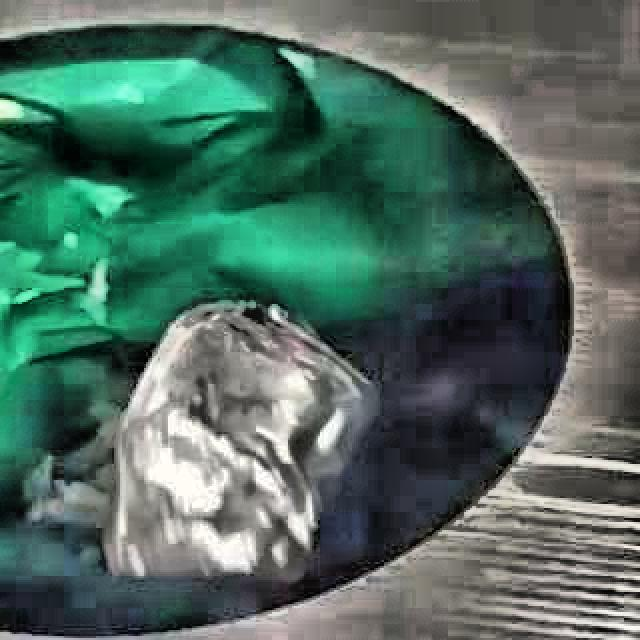metal: (104, 304, 376, 577)
